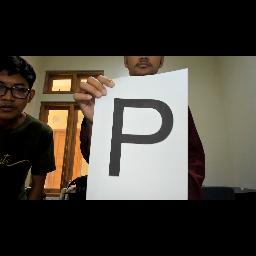p: (104, 93, 176, 185)
